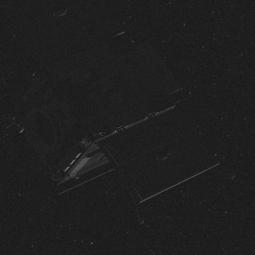proba_2: (2, 6, 214, 195)
